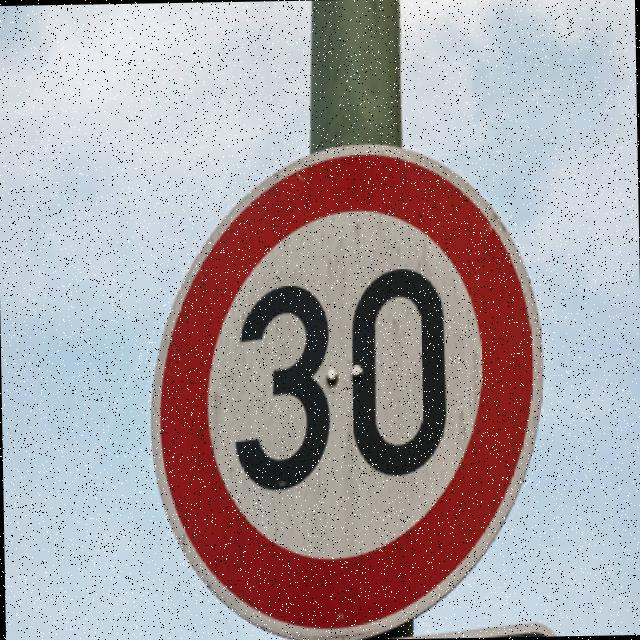speed_limit_30: (136, 129, 547, 640)
